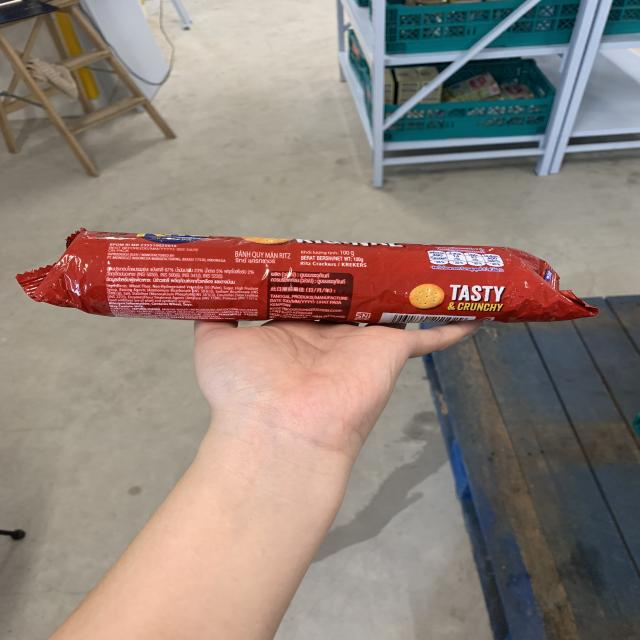object_name: (38, 232, 580, 327)
